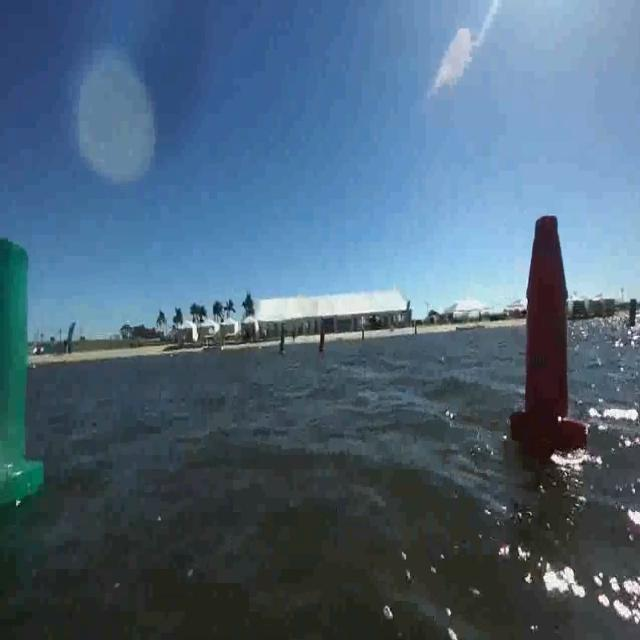green-column-buoy: (0, 233, 42, 503), (626, 295, 640, 330), (278, 326, 288, 356)
red-column-buoy: (511, 213, 590, 459), (318, 327, 327, 352)
